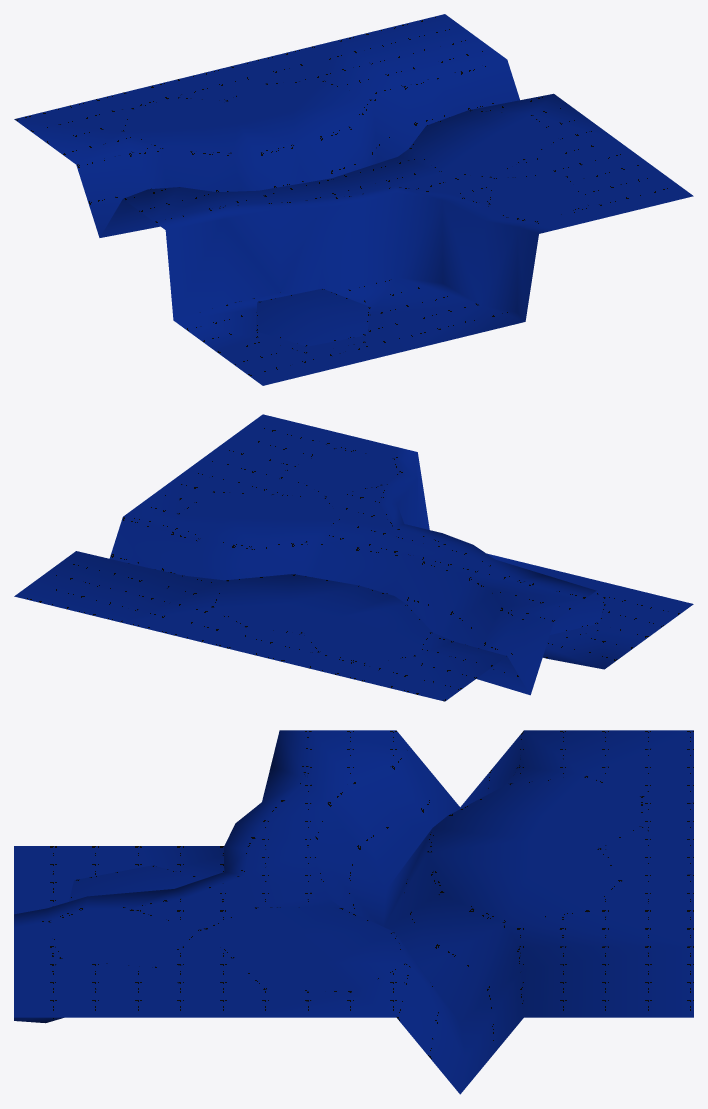
The model's file is GRD_S_C5_R3_1.fbx.
The picture shows the model from 3 angles, top to bottom: view 1: azimuth 30°, elevation 25°; view 2: azimuth 150°, elevation 25°; view 3: azimuth 270°, elevation 25°; orthographic projection. The views are drawn at different scales.
Visible parts, largest first — view 1: material_00022000, material_00032000, material_C0052000, material_C0042000, material_C0012000, material_C0062000; view 2: material_00022000, material_C0052000, material_C0042000, material_00032000, material_C0012000, material_C0062000; view 3: material_00022000, material_C0052000, material_C0042000, material_00032000, material_C0012000.
Boxes of the visible parts, <box> form: material_00022000: <box>14,14,693,385</box>; material_00032000: <box>154,186,558,321</box>; material_C0052000: <box>121,80,589,222</box>; material_C0042000: <box>76,59,519,237</box>; material_C0012000: <box>256,288,370,346</box>; material_C0062000: <box>256,314,370,353</box>; material_00022000: <box>14,414,693,701</box>; material_C0052000: <box>177,448,432,664</box>; material_C0042000: <box>109,517,553,695</box>; material_00032000: <box>379,447,596,598</box>; material_C0012000: <box>550,593,605,634</box>; material_C0062000: <box>547,603,605,642</box>; material_00022000: <box>14,730,693,1023</box>; material_C0052000: <box>46,775,644,992</box>; material_C0042000: <box>311,730,523,1094</box>; material_00032000: <box>14,730,311,927</box>; material_C0012000: <box>69,865,204,901</box>.
Size of the model in its own units: 12800 by 2400 by 12800.
